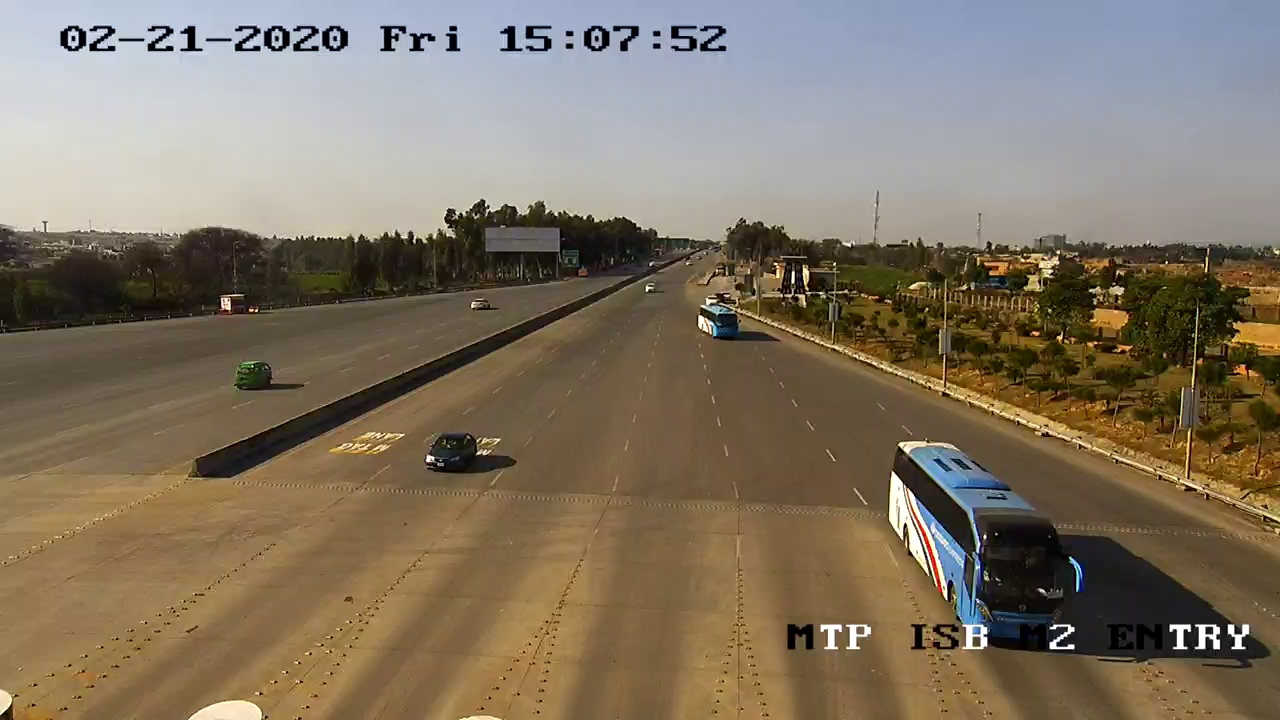f1: (417, 425, 480, 483)
f4: (882, 420, 1097, 657)
